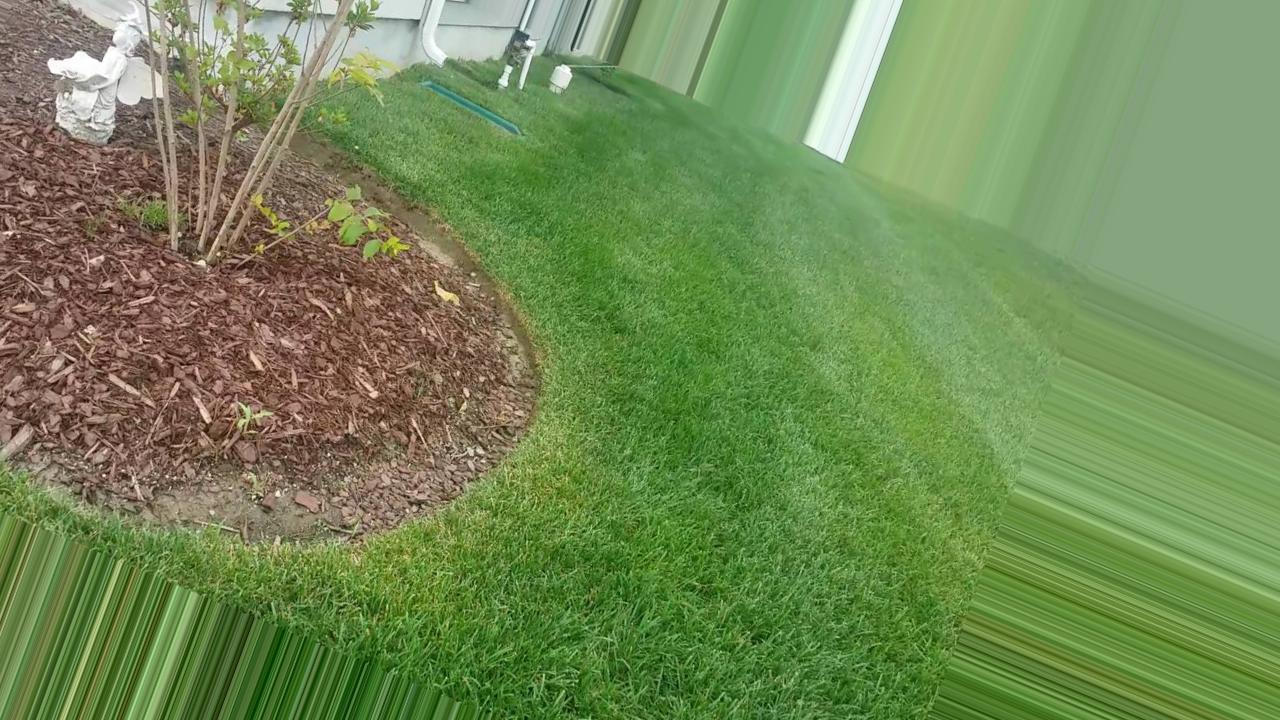patch: (45, 282, 437, 465), (104, 434, 418, 514), (26, 164, 144, 270), (1, 11, 43, 150)
